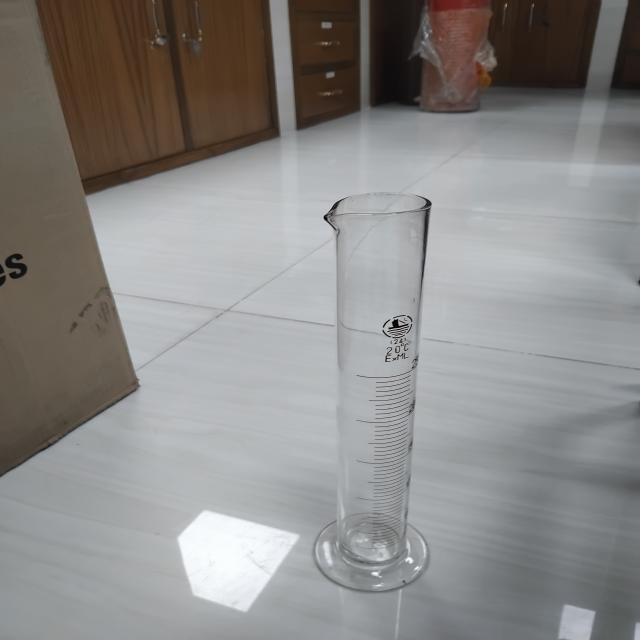Measuring_Cylinder: (271, 136, 479, 606)
